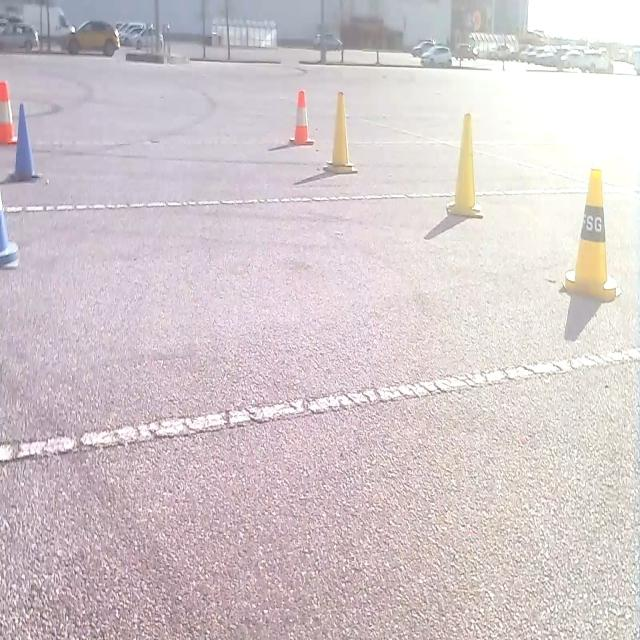blue_cone: (6, 101, 40, 183)
orange_cone: (289, 87, 314, 146), (0, 79, 18, 144)
yellow_cone: (563, 167, 617, 302), (446, 110, 483, 218), (324, 89, 358, 174), (0, 189, 20, 269)
